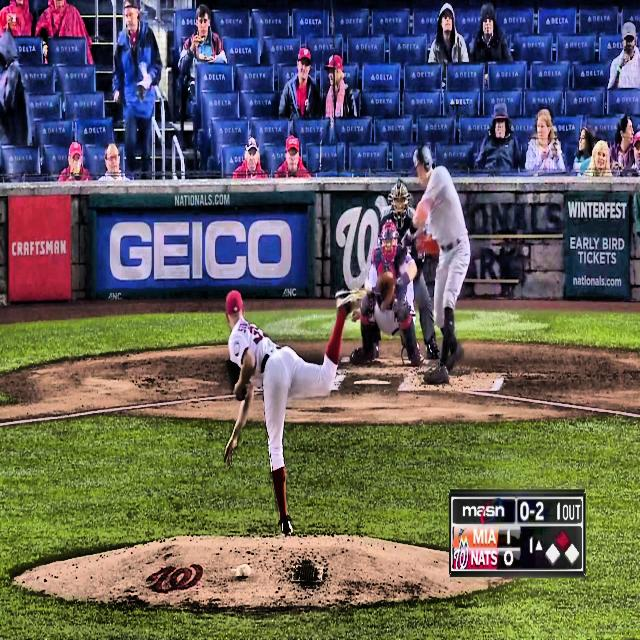baseball: (364, 280, 372, 294)
